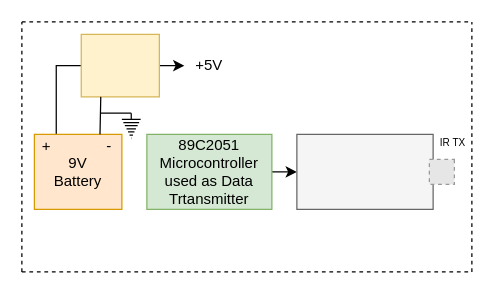
This 500x295 diagram has some shape labels left out. Grey dashed boxes stand in for pictures. Here are the shapes that lost their labels. From the top down, the centre of each, then its label:
[119,65]: 5V Regulator
[364,171]: 38KHz Modulator designed with 555 timer chip
